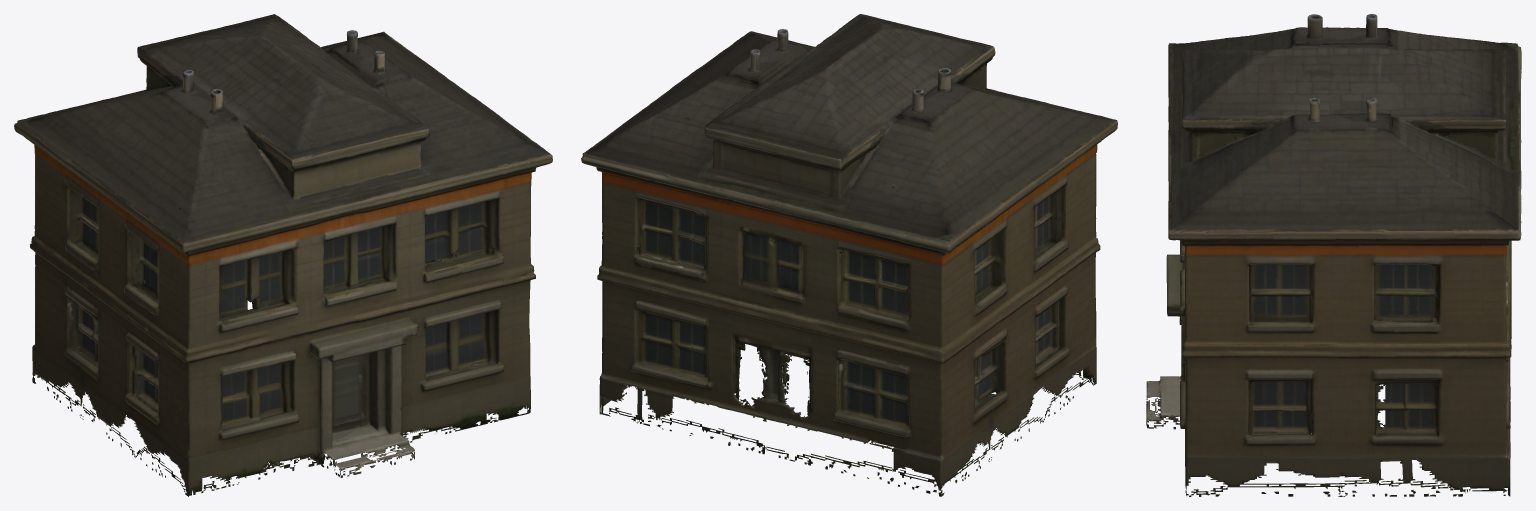
The model's file is Schoolhouse.glb.
The picture shows the model from 3 angles, left to right: view 1: azimuth 30°, elevation 25°; view 2: azimuth 150°, elevation 25°; view 3: azimuth 270°, elevation 25°; orthographic projection. The views are drawn at different scales.
Parts seen in each view (by area): view 1: Mesh_0; view 2: Mesh_0; view 3: Mesh_0.
Boxes of the visible parts, left/top/right/bottom form: Mesh_0: left=14, top=14, right=552, bottom=496; Mesh_0: left=581, top=14, right=1117, bottom=496; Mesh_0: left=1146, top=14, right=1521, bottom=496.
Size of the model in its own units: 8.89 by 8 by 7.49.
Materials: 1 (1 with a texture image).
